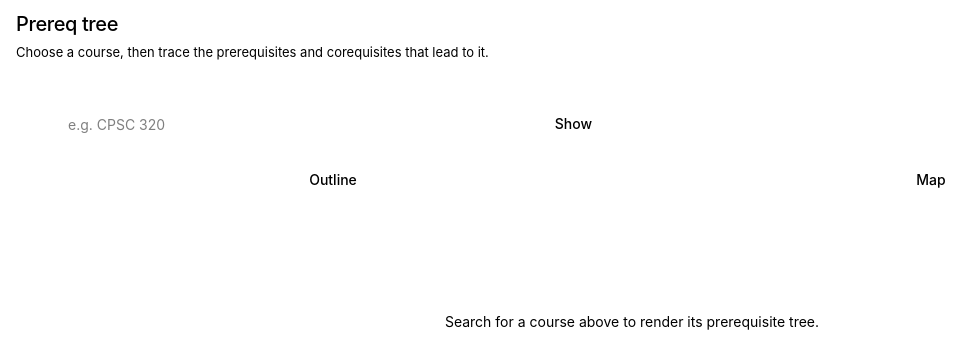
Test case: PrereqTreePane › suggests catalog codes by prefix as the user types (autofill)
In the dropdown named "Root course code": (281,124) [32,102,531,146], type "cpsc 1"
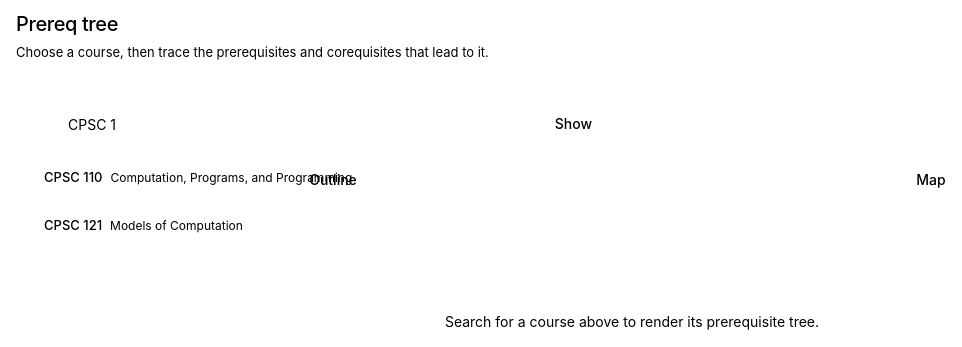
Now the list shows "CPSC 110", box [32,154,531,202]
Now the list shows "CPSC 121", box [32,202,531,250]
